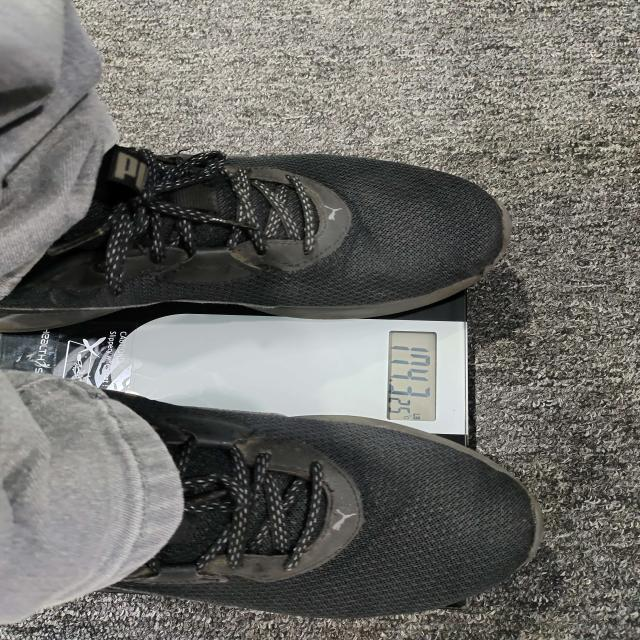ws: (101, 294, 473, 442)
